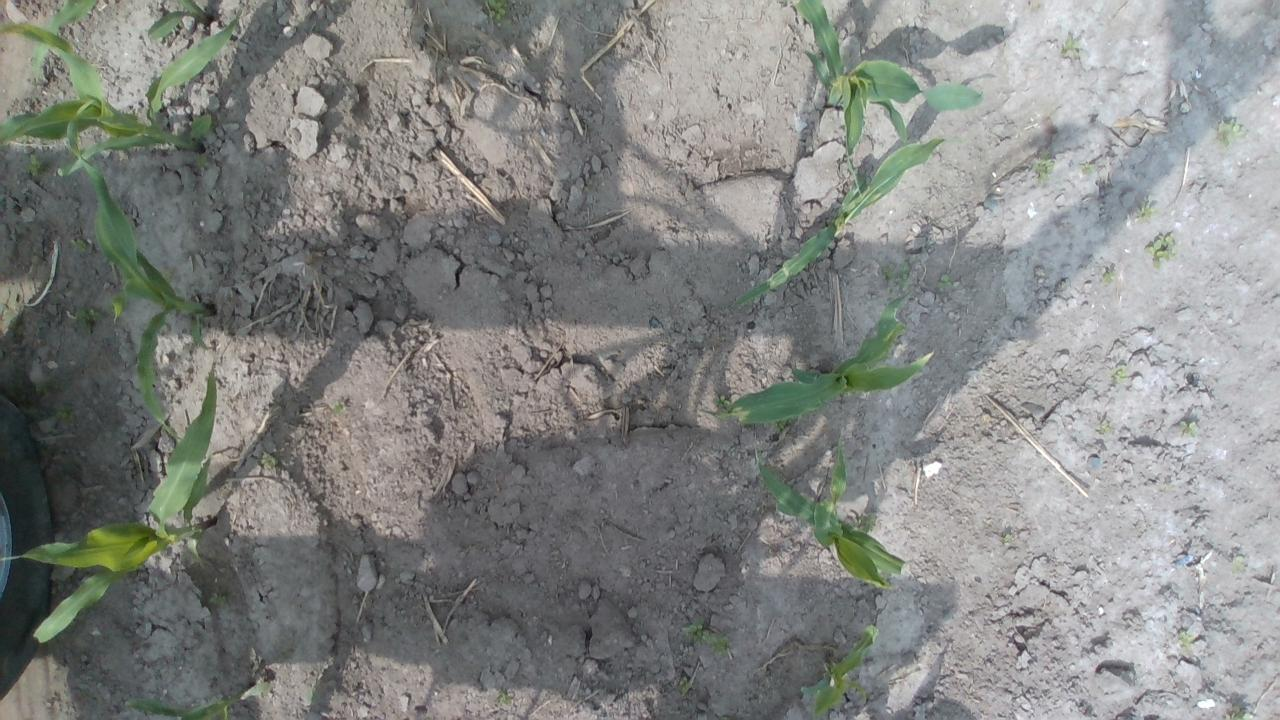Maize: (0, 361, 223, 645), (64, 94, 211, 446), (736, 134, 969, 310), (0, 15, 246, 168), (797, 0, 984, 195), (698, 290, 936, 424), (751, 438, 904, 590), (30, 0, 212, 82), (803, 625, 880, 720), (123, 679, 270, 720)
Weeds: (682, 616, 732, 656), (1144, 233, 1176, 269), (879, 262, 911, 294), (72, 306, 106, 334), (1032, 152, 1055, 187), (1217, 118, 1242, 148), (20, 152, 46, 176), (485, 0, 509, 22), (1060, 33, 1080, 58), (0, 303, 19, 329), (1134, 202, 1156, 221), (1178, 630, 1195, 654), (1225, 705, 1252, 720), (856, 514, 876, 534), (304, 680, 320, 703), (258, 452, 278, 470), (70, 236, 89, 254), (1110, 367, 1128, 385), (494, 690, 514, 706), (192, 153, 212, 169), (1230, 554, 1245, 574), (1180, 420, 1197, 437), (937, 274, 955, 290), (712, 395, 731, 410), (1094, 420, 1114, 434), (772, 418, 792, 432), (1078, 162, 1096, 176), (158, 266, 172, 284), (208, 594, 227, 606), (680, 676, 691, 694), (332, 400, 347, 413), (1101, 270, 1115, 283), (583, 180, 594, 193), (1002, 532, 1012, 544), (720, 716, 731, 720)
